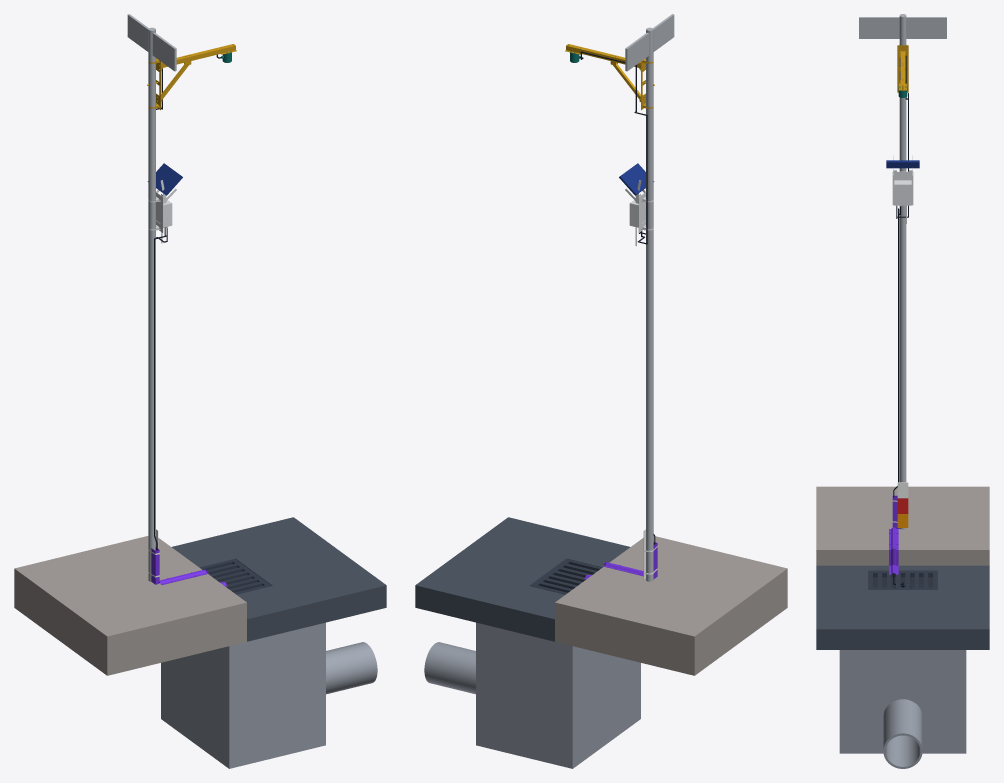
The picture shows the model from 3 angles, left to right: view 1: azimuth 30°, elevation 25°; view 2: azimuth 150°, elevation 25°; view 3: azimuth 270°, elevation 25°; orthographic projection. The views are drawn at different scales.
Parts seen in each view (by area): view 1: Existing curb and sidewalk, Existing catch basin and outlet pipe, Existing road slab and gutter, Existing street pole, 60 mm, Existing grate, Sensor arm, knee brace and pole bracket, FieldNode core (enclosure, LiFePO4, LoRaWAN); view 2: Existing curb and sidewalk, Existing catch basin and outlet pipe, Existing road slab and gutter, Existing street pole, 60 mm, Existing grate, Sensor arm, knee brace and pole bracket, FieldNode core (enclosure, LiFePO4, LoRaWAN); view 3: Existing road slab and gutter, Existing catch basin and outlet pipe, Existing curb and sidewalk, Existing street pole, 60 mm, Existing grate, Sensor cables, M12, FieldNode core (enclosure, LiFePO4, LoRaWAN), Surface cable covers and riser guard, Sensor arm, knee brace and pole bracket.
Part boxes in pixels (left/top/right/bottom): Existing curb and sidewalk: left=14, top=536, right=246, bottom=675; Existing catch basin and outlet pipe: left=161, top=622, right=377, bottom=768; Existing road slab and gutter: left=171, top=517, right=386, bottom=641; Existing street pole, 60 mm: left=127, top=14, right=176, bottom=581; Existing grate: left=200, top=559, right=271, bottom=594; Sensor arm, knee brace and pole bracket: left=147, top=44, right=236, bottom=110; FieldNode core (enclosure, LiFePO4, LoRaWAN): left=148, top=180, right=176, bottom=243; Existing curb and sidewalk: left=555, top=536, right=787, bottom=675; Existing catch basin and outlet pipe: left=424, top=622, right=640, bottom=768; Existing road slab and gutter: left=415, top=517, right=630, bottom=641; Existing street pole, 60 mm: left=625, top=14, right=674, bottom=581; Existing grate: left=530, top=559, right=601, bottom=594; Sensor arm, knee brace and pole bracket: left=565, top=44, right=654, bottom=110; FieldNode core (enclosure, LiFePO4, LoRaWAN): left=625, top=180, right=653, bottom=246; Existing road slab and gutter: left=816, top=565, right=989, bottom=649; Existing catch basin and outlet pipe: left=839, top=650, right=966, bottom=768; Existing curb and sidewalk: left=816, top=486, right=989, bottom=565; Existing street pole, 60 mm: left=859, top=14, right=946, bottom=529; Existing grate: left=869, top=571, right=936, bottom=589; Sensor cables, M12: left=893, top=55, right=911, bottom=587; FieldNode core (enclosure, LiFePO4, LoRaWAN): left=892, top=155, right=913, bottom=223; Surface cable covers and riser guard: left=889, top=495, right=900, bottom=574; Sensor arm, knee brace and pole bracket: left=897, top=45, right=908, bottom=92.
Size of the model in its own units: 2.85 by 6.45 by 1.5.
